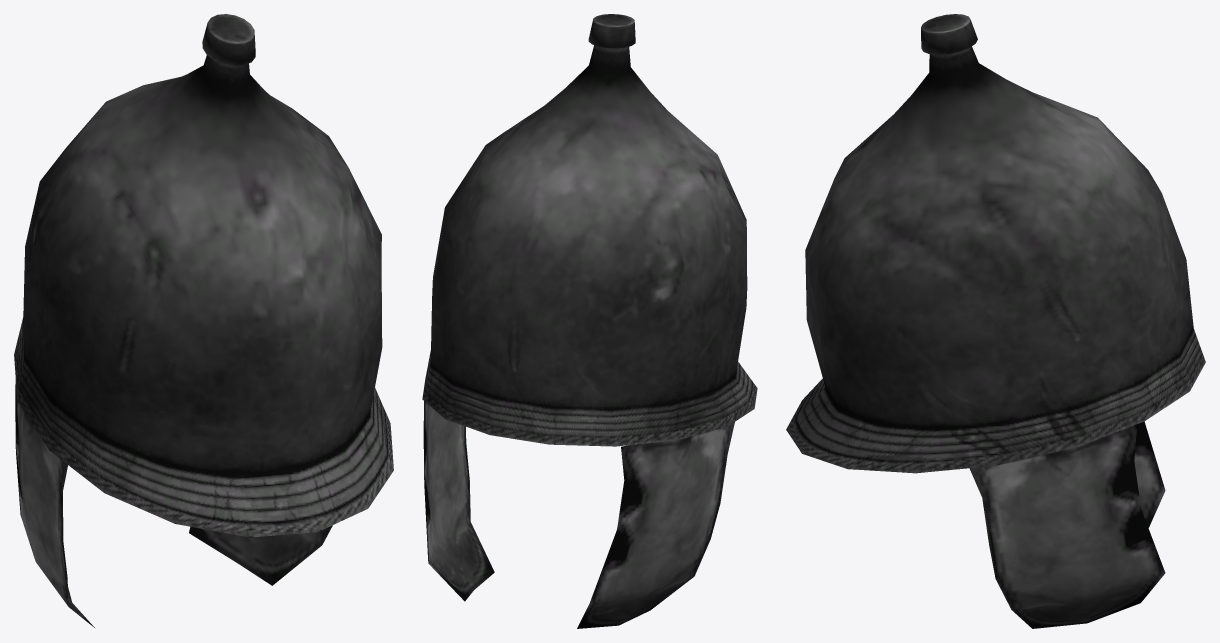
The model's file is helm_celt_helmet_montefortino_03.glb.
3 renders of one model, left to right at view 1: azimuth 30°, elevation 25°; view 2: azimuth 150°, elevation 25°; view 3: azimuth 270°, elevation 25°, orthographic. The views are drawn at different scales.
Visible parts, largest first — view 1: helm_celt_helmet_montefortino_03_part0; view 2: helm_celt_helmet_montefortino_03_part0; view 3: helm_celt_helmet_montefortino_03_part0.
Boxes of the visible parts, left/top/right/bottom form: helm_celt_helmet_montefortino_03_part0: left=14, top=14, right=393, bottom=627; helm_celt_helmet_montefortino_03_part0: left=422, top=14, right=757, bottom=628; helm_celt_helmet_montefortino_03_part0: left=786, top=14, right=1205, bottom=628.
Bounding box in the file's own units: 0.4638 × 0.8829 × 0.5898.
Materials: 1 (1 with a texture image).
